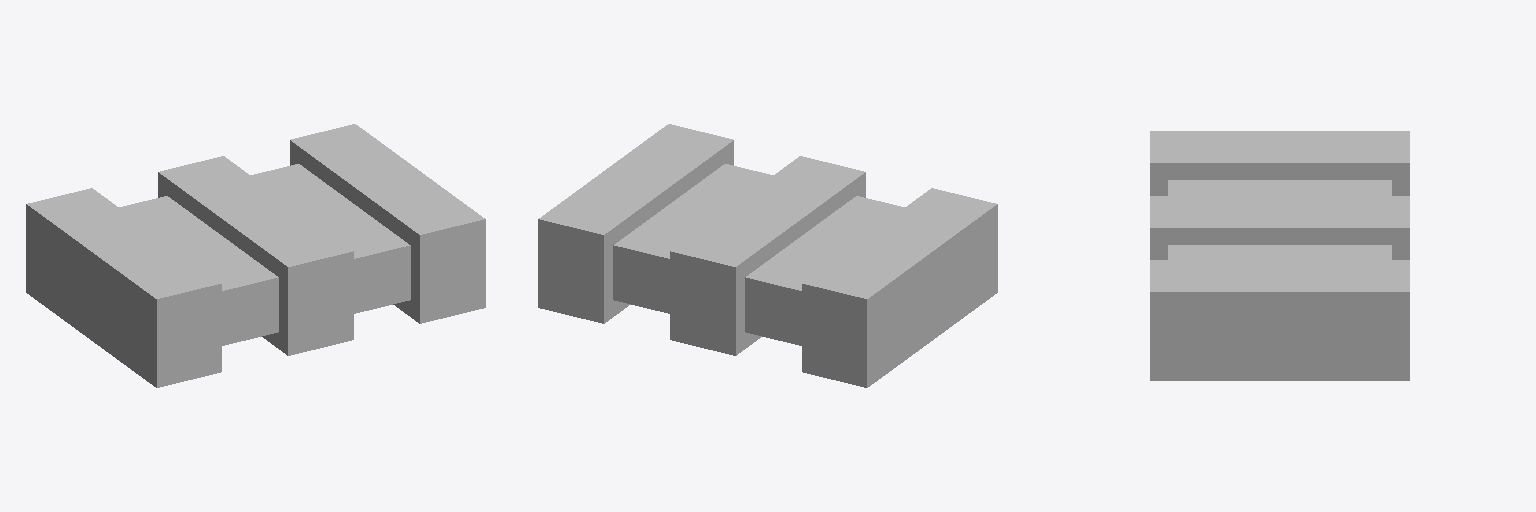
File: malus.obj
The picture shows the model from 3 angles: view 1: azimuth 30°, elevation 25°; view 2: azimuth 150°, elevation 25°; view 3: azimuth 270°, elevation 25°; orthographic projection.
Parts seen in each view (by area): view 1: bonus_Cube.014; view 2: bonus_Cube.014; view 3: bonus_Cube.014.
Part boxes in pixels (left/top/right/bottom): bonus_Cube.014: left=26, top=124, right=485, bottom=387; bonus_Cube.014: left=538, top=124, right=997, bottom=387; bonus_Cube.014: left=1150, top=131, right=1409, bottom=380.
Bounding box in the file's own units: 1.81 × 0.4682 × 1.24.